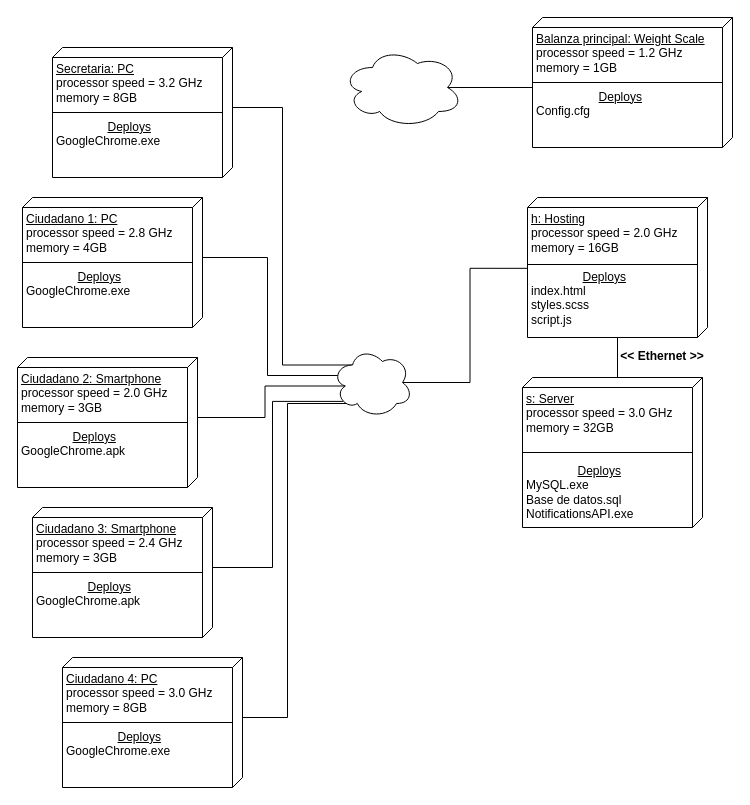
This 750x805 diagram has some shape labels left out. Each missing label, with the centre of its shape:
Bluetooth: (402,87)
Internet: (372,382)
